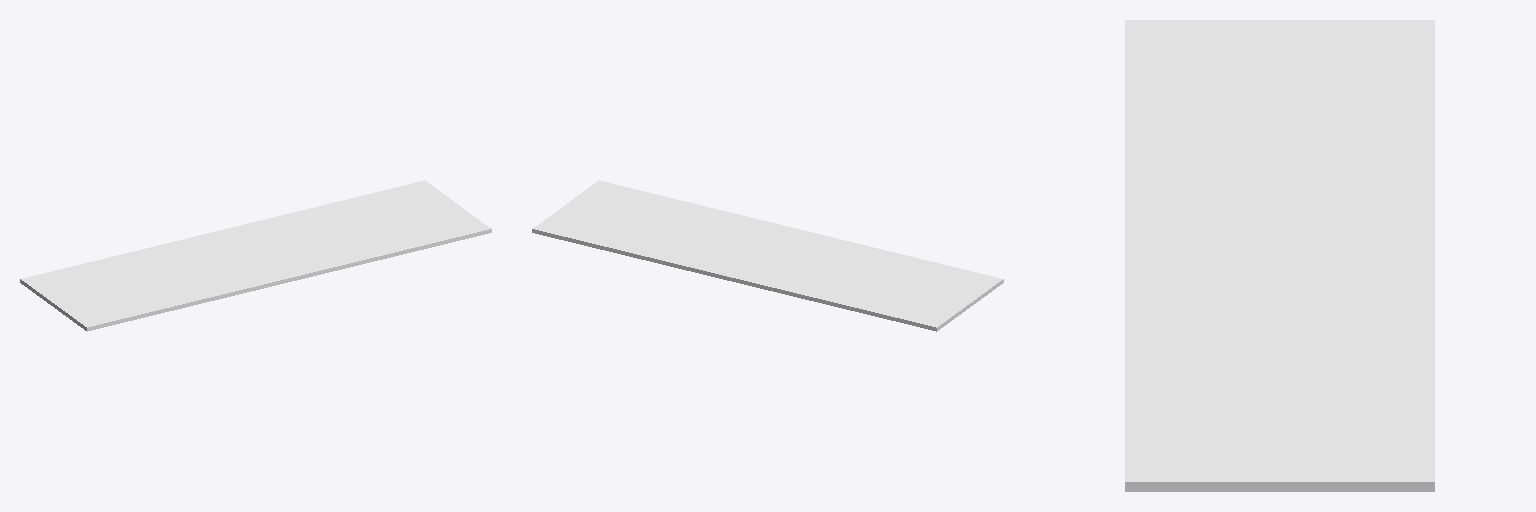
URDF robot description (wall1_1_TEST2.urdf):
<?xml version="1.0" ?>
<robot name="wall1_1_TEST2.urdf">
  <link name="baseLink">
    <inertial>
      <origin rpy="0 0 0" xyz="0 0 0"/>
       <mass value="0.0"/>
       <inertia ixx="0" ixy="0" ixz="0" iyy="0" iyz="0" izz="0"/>
    </inertial>
    <visual>
      <origin rpy="0 0 0" xyz="0 0 0"/>
      <geometry>
        <mesh filename="wall1_1_TEST2.obj" scale="1.0 1.0 1.0"/>
      </geometry>
      <material name="white">
       <color rgba="1 1 1 1"/>
     </material>
    </visual>
    <collision concave="yes">
      <origin rpy="0 0 0" xyz="0 0 0"/>
      <geometry>
        <mesh filename="wall1_1_TEST2.obj" scale="1.0 1.0 1.0"/>
        <!-- You could also specify the collision (for the wall1_1_TEST2) with a "box" tag: -->
        <!-- <box size=".06 .06 .06"/> -->
      </geometry>
    </collision>
  </link>
</robot>
        

--- Facts derived from the render (not from the file) ---
The picture shows the robot from 3 angles, left to right: view 1: azimuth 30°, elevation 25°; view 2: azimuth 150°, elevation 25°; view 3: azimuth 270°, elevation 25°; orthographic projection.
Robot: wall1_1_TEST2.urdf — 1 links, 0 joints (none); root link baseLink; default pose: all joints at 0.
Visible links, largest first — view 1: baseLink; view 2: baseLink; view 3: baseLink.
Boxes of the visible links, left/top/right/bottom form: baseLink: left=20, top=180, right=491, bottom=331; baseLink: left=532, top=180, right=1003, bottom=331; baseLink: left=1125, top=20, right=1434, bottom=491.
Bounding box of the posed robot: 9.68 × 2.75 × 0.091 m (x, y, z).
1 mesh visuals loaded from 1 distinct referenced files (1 OBJ).
